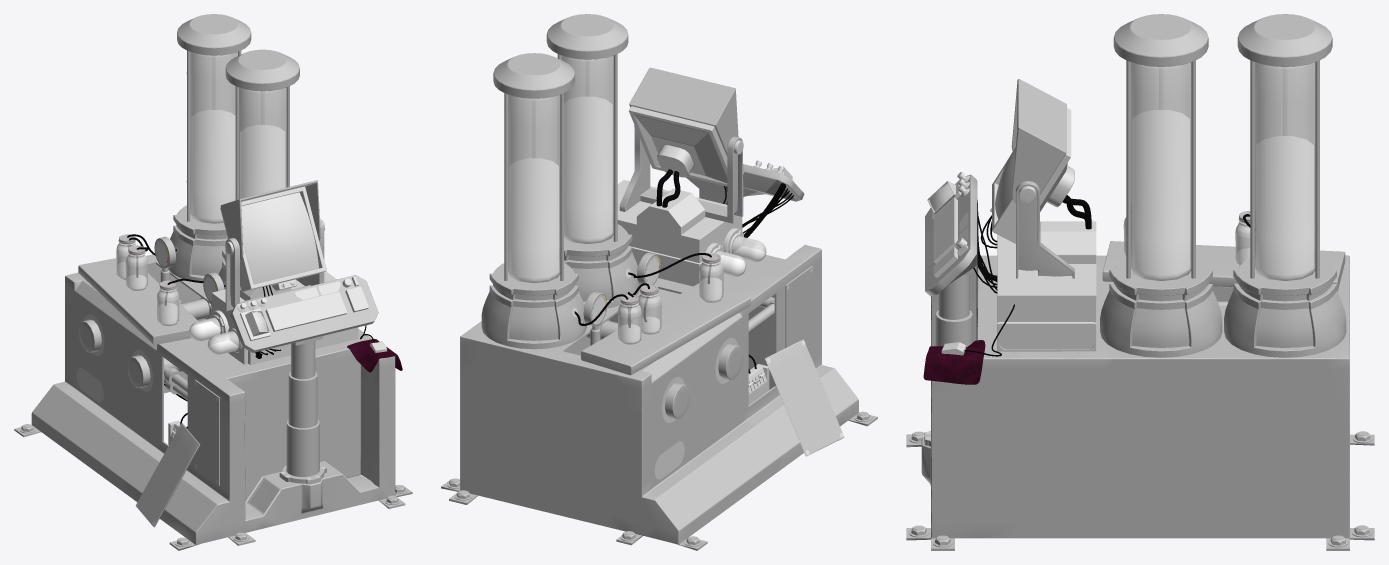
Rendered from 06_DigitalHydroponicController.fbx.
The picture shows the model from 3 angles, left to right: view 1: azimuth 30°, elevation 25°; view 2: azimuth 150°, elevation 25°; view 3: azimuth 270°, elevation 25°; orthographic projection. The views are drawn at different scales.
Visible parts, largest first — view 1: Plane, Cylinder.012, Cylinder.002, Cylinder.019, Cube.002, Cylinder.013, Plane.086, Plane.002, Elbow Joint, Cube.024, Cube, Cylinder.018 (+10 smaller); view 2: Plane, Cylinder.012, Cylinder.002, Cylinder.019, Cube, Plane.002, Cube.002, Cube.008, Elbow Joint, Cube.001, Cylinder.018, Plane.086 (+8 smaller); view 3: Plane, Cylinder.002, Cylinder.012, Cylinder.019, Cube, Cube.008, Cylinder.018, Cube.002, Cube.001, Plane.086, Plane.002, Cylinder.013 (+4 smaller).
Boxes of the visible parts, x1=… form: Plane: x1=14, y1=254, x2=412, y2=550; Cylinder.012: x1=186, y1=52, x2=286, y2=223; Cylinder.002: x1=168, y1=14, x2=299, y2=283; Cylinder.019: x1=191, y1=110, x2=284, y2=221; Cube.002: x1=220, y1=186, x2=326, y2=292; Cylinder.013: x1=279, y1=341, x2=326, y2=484; Plane.086: x1=230, y1=275, x2=378, y2=352; Plane.002: x1=78, y1=258, x2=198, y2=344; Elbow Joint: x1=78, y1=236, x2=224, y2=388; Cube.024: x1=265, y1=292, x2=347, y2=331; Cube: x1=211, y1=271, x2=358, y2=364; Cylinder.018: x1=187, y1=50, x2=289, y2=221; Plane: x1=441, y1=245, x2=877, y2=550; Cylinder.012: x1=508, y1=55, x2=613, y2=283; Cylinder.002: x1=481, y1=14, x2=639, y2=349; Cylinder.019: x1=509, y1=97, x2=612, y2=281; Cube: x1=617, y1=180, x2=742, y2=286; Plane.002: x1=581, y1=283, x2=750, y2=375; Cube.002: x1=629, y1=106, x2=745, y2=186; Cube.008: x1=629, y1=67, x2=738, y2=156; Elbow Joint: x1=583, y1=252, x2=743, y2=419; Cube.001: x1=619, y1=126, x2=743, y2=223; Cylinder.018: x1=504, y1=54, x2=617, y2=280; Plane.086: x1=686, y1=164, x2=804, y2=204; Plane: x1=906, y1=255, x2=1374, y2=550; Cylinder.002: x1=1100, y1=14, x2=1346, y2=357; Cylinder.012: x1=1131, y1=62, x2=1315, y2=280; Cylinder.019: x1=1132, y1=110, x2=1313, y2=278; Cube: x1=997, y1=221, x2=1096, y2=351; Cube.008: x1=1011, y1=79, x2=1066, y2=203; Cylinder.018: x1=1126, y1=60, x2=1319, y2=278; Cube.002: x1=992, y1=108, x2=1074, y2=243; Cube.001: x1=1016, y1=181, x2=1074, y2=278; Plane.086: x1=925, y1=174, x2=977, y2=296; Plane.002: x1=1102, y1=241, x2=1345, y2=291; Cylinder.013: x1=924, y1=275, x2=972, y2=446.
Size of the model in its own units: 139 by 217 by 189.
